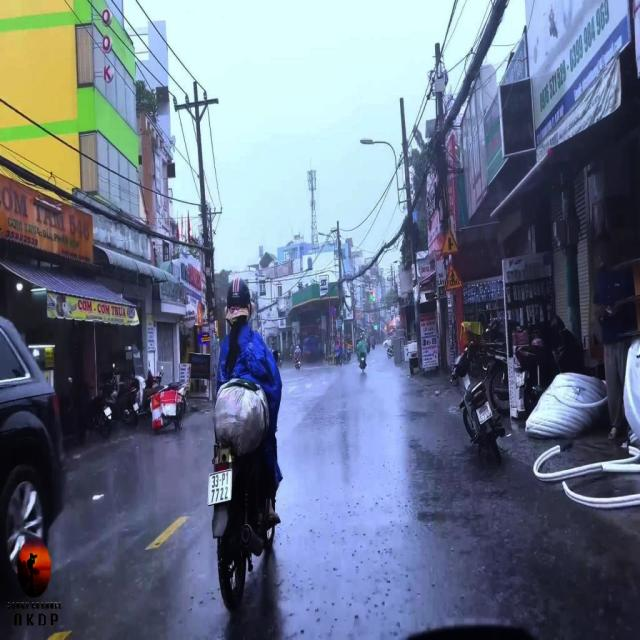chu_y_nguoi_di_bo_cat_ngang: (444, 264, 463, 290)
giao_nhau_voi_duong_khong_uu_tien: (441, 226, 461, 254)
